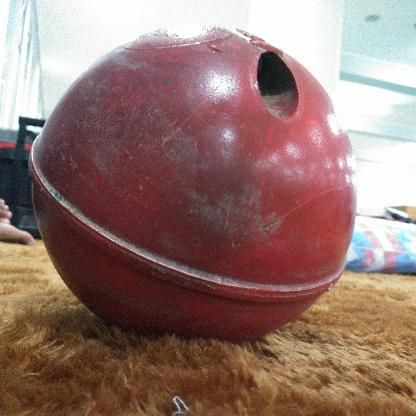red_buoy: (29, 23, 357, 342)
